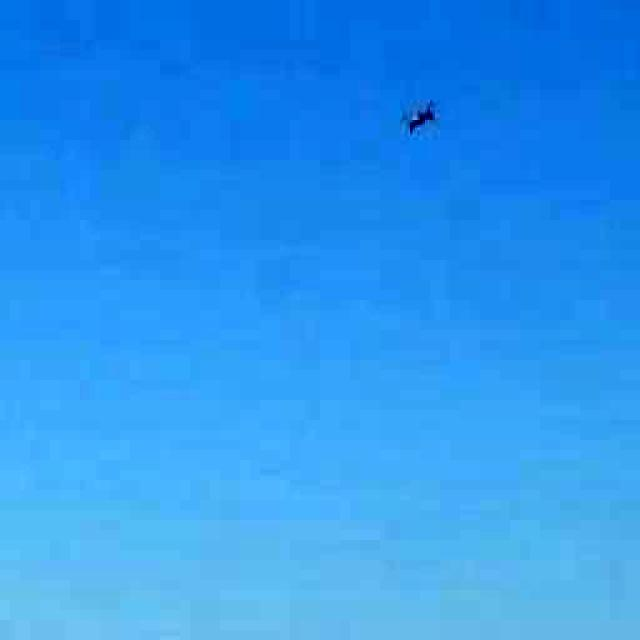bird: (386, 90, 446, 152)
